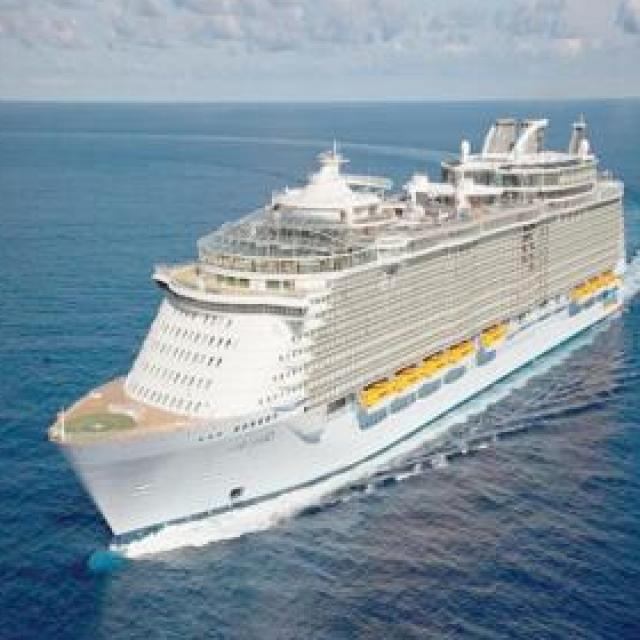passenger ship: (46, 106, 636, 550)
